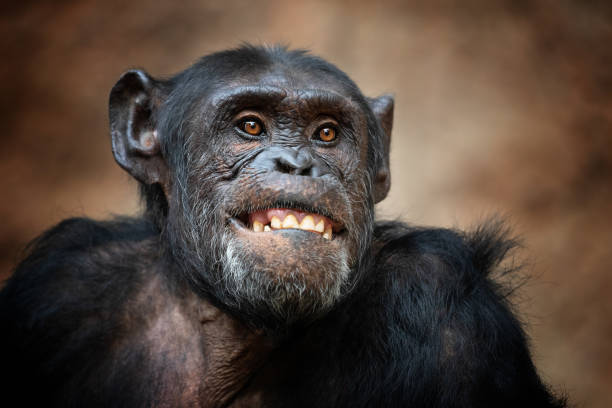chimpanzee: (83, 22, 449, 357)
